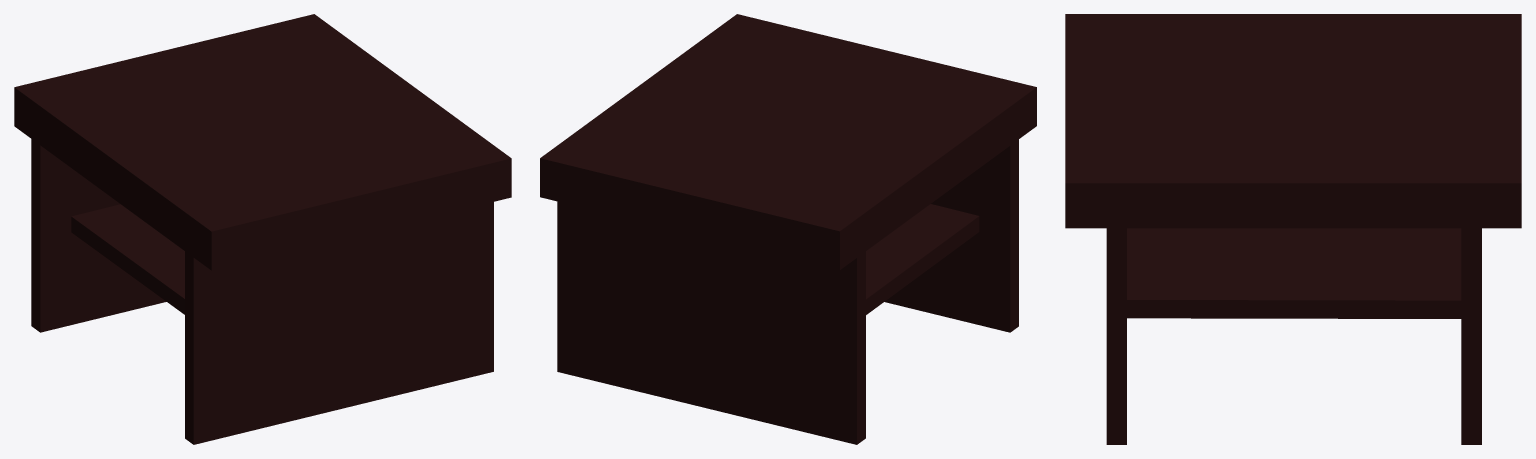
Rendered from table.fbx.
3 renders of one model, left to right at view 1: azimuth 30°, elevation 25°; view 2: azimuth 150°, elevation 25°; view 3: azimuth 270°, elevation 25°, orthographic. The views are drawn at different scales.
Parts seen in each view (by area): view 1: pCube1, pCube3, pCube2, pCube4; view 2: pCube1, pCube2, pCube3, pCube4; view 3: pCube1, pCube4, pCube3, pCube2.
Part boxes in pixels (left/top/right/bottom): pCube1: left=14, top=14, right=511, bottom=270; pCube3: left=185, top=202, right=493, bottom=444; pCube2: left=31, top=123, right=166, bottom=332; pCube4: left=71, top=204, right=184, bottom=314; pCube1: left=540, top=14, right=1036, bottom=270; pCube2: left=557, top=201, right=865, bottom=444; pCube3: left=884, top=123, right=1018, bottom=332; pCube4: left=866, top=204, right=979, bottom=314; pCube1: left=1065, top=14, right=1521, bottom=228; pCube4: left=1127, top=228, right=1461, bottom=318; pCube3: left=1106, top=210, right=1126, bottom=444; pCube2: left=1461, top=210, right=1481, bottom=444.
Bounding box in the file's own units: 7.45 × 5.37 × 8.49.
